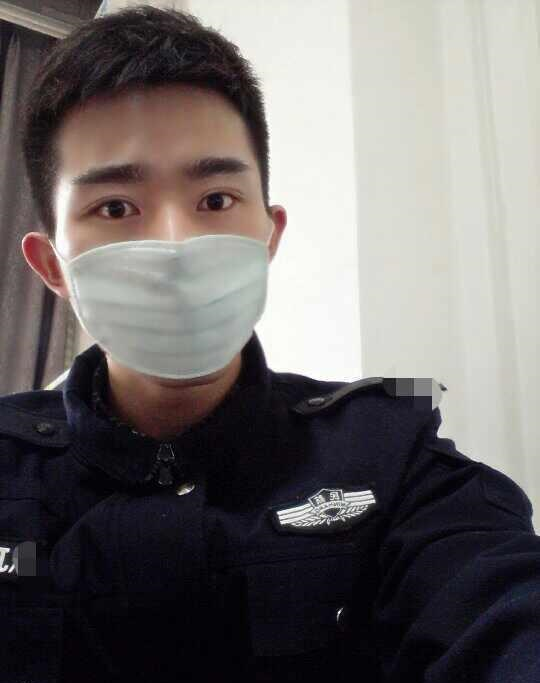face_mask: (63, 97, 266, 378)
